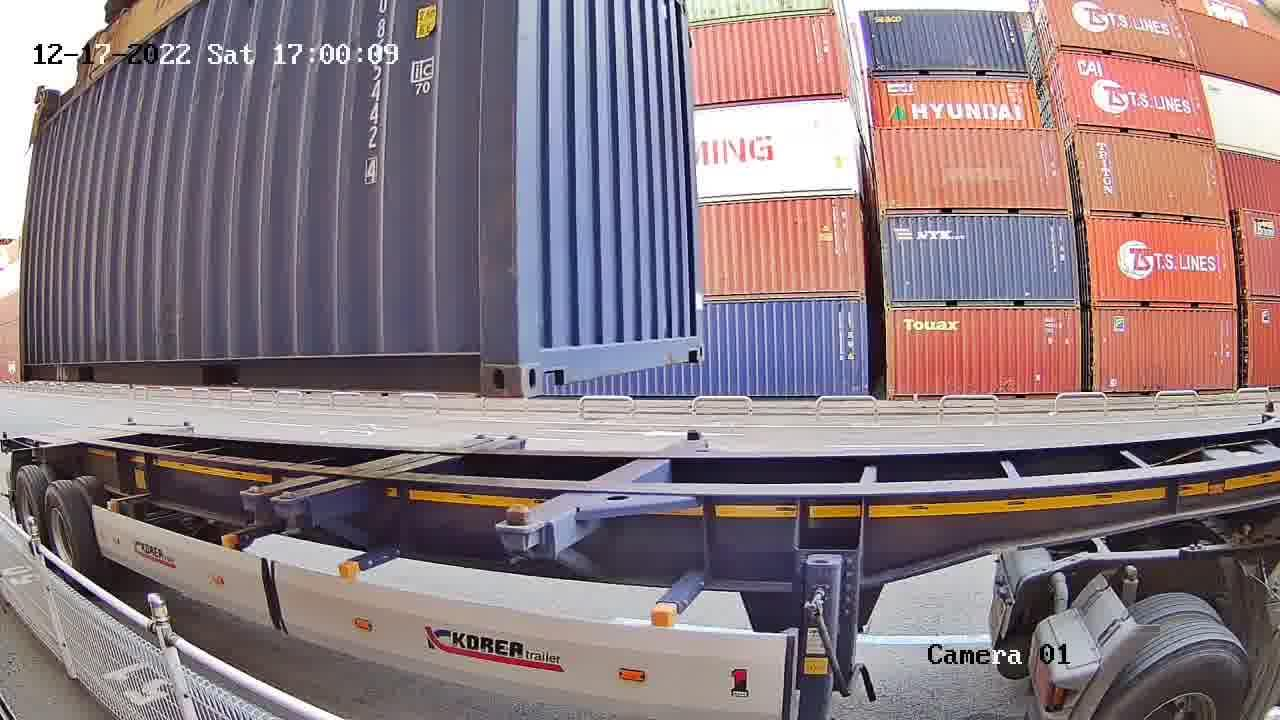Chassis: (499, 432, 710, 558)
Cone: (497, 530, 540, 571)
Container: (521, 319, 709, 402)
Hole_L: (519, 322, 566, 401)
Hole_R: (443, 323, 523, 397), (681, 319, 707, 367)
Tire: (1099, 640, 1260, 719), (40, 484, 81, 571)
